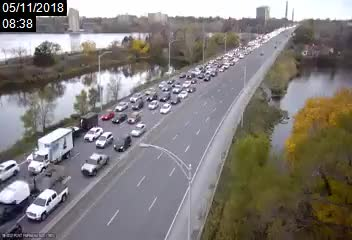congestion: (6, 109, 140, 223), (101, 78, 185, 125), (161, 58, 228, 90), (202, 44, 251, 64)
personal_car: (25, 182, 69, 222), (81, 152, 109, 179), (1, 158, 20, 186), (115, 134, 132, 154), (95, 132, 114, 149), (84, 126, 103, 142), (131, 124, 146, 137), (112, 112, 128, 124), (160, 101, 172, 114), (128, 112, 142, 123), (148, 98, 160, 110), (132, 99, 144, 110), (102, 110, 114, 121), (115, 102, 129, 111), (170, 83, 182, 93), (130, 92, 142, 102), (176, 89, 188, 98), (181, 79, 192, 88), (159, 92, 170, 101), (171, 96, 180, 106), (147, 92, 157, 101), (194, 63, 203, 72), (186, 85, 196, 92), (158, 80, 166, 88), (163, 84, 171, 92), (208, 69, 217, 76), (185, 72, 194, 79), (145, 88, 154, 95), (197, 72, 205, 79), (190, 76, 196, 84), (167, 78, 174, 84), (206, 69, 212, 75), (203, 76, 210, 81), (178, 72, 185, 77)
truck: (1, 162, 70, 236), (27, 127, 74, 175)
